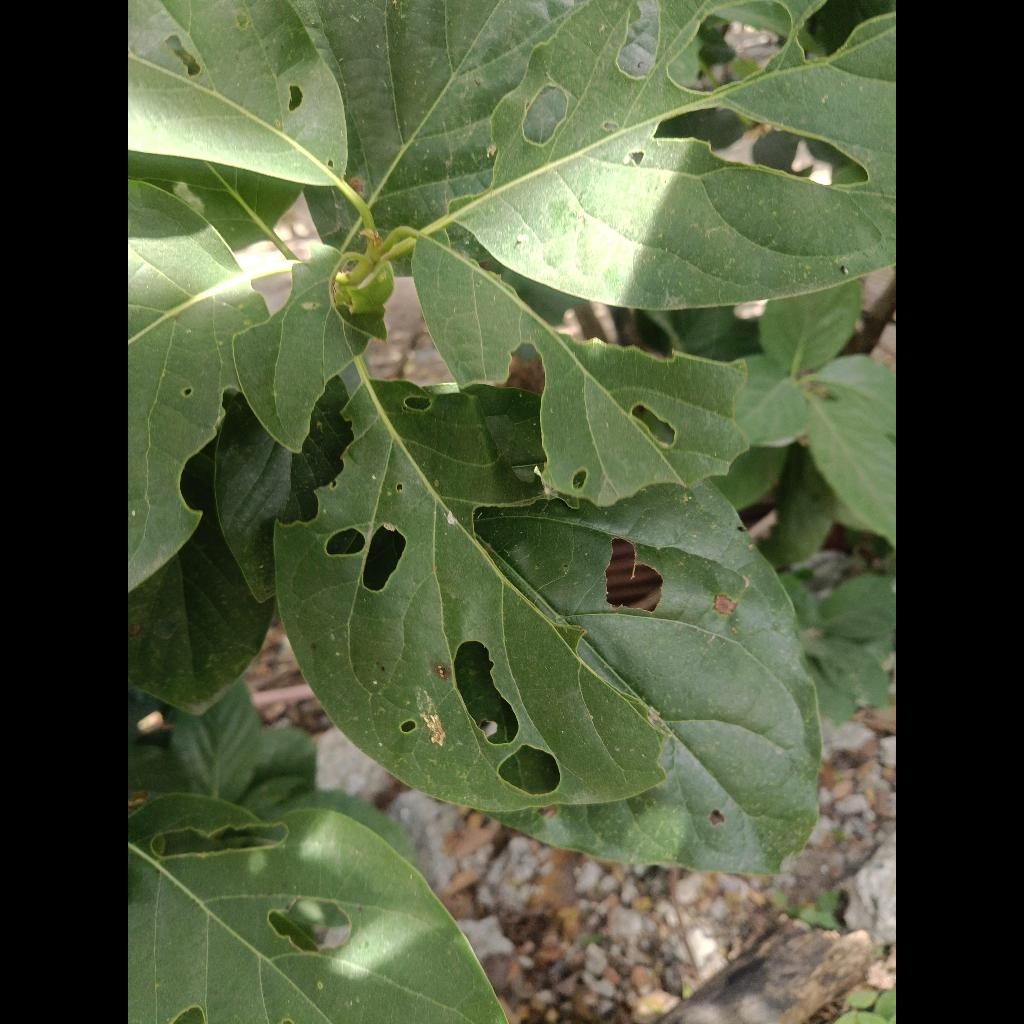Pest Infested: (454, 0, 896, 308), (413, 238, 746, 506)
